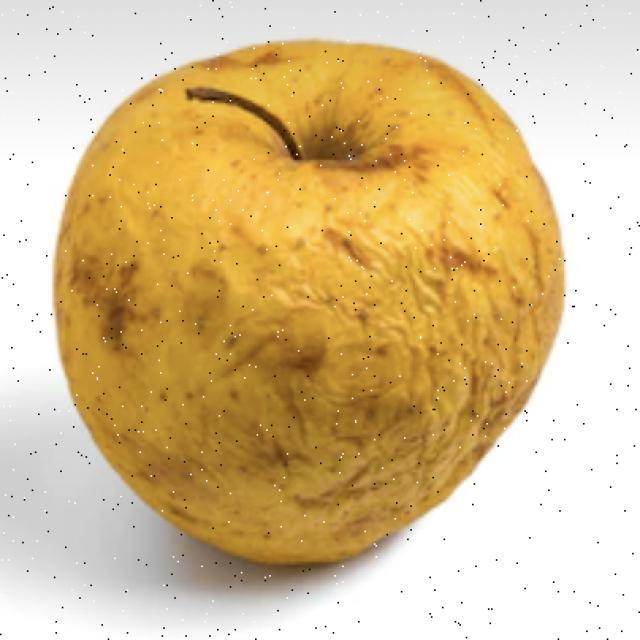Rotten: (73, 52, 522, 565)
